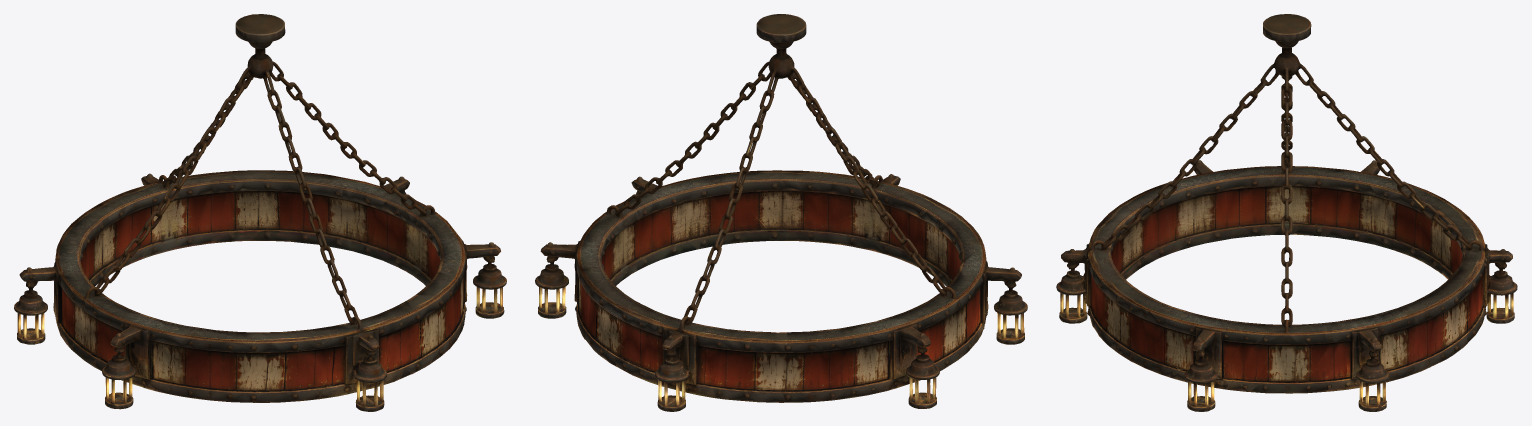
The model's file is Meshy_AI_Rustic_Circular_Lante_0511195101_texture.fbx.
3 views of the same model, side by side, from view 1: azimuth 30°, elevation 25°; view 2: azimuth 150°, elevation 25°; view 3: azimuth 270°, elevation 25° (orthographic). The views are drawn at different scales.
Parts seen in each view (by area): view 1: Mesh_0; view 2: Mesh_0; view 3: Mesh_0.
Boxes of the visible parts, x1,y1,x2,y2 form: Mesh_0: (14,14,506,411); Mesh_0: (535,14,1027,411); Mesh_0: (1056,14,1517,411).
Size of the model in its own units: 187 by 135 by 191.
Materials: 1 (1 with a texture image).
